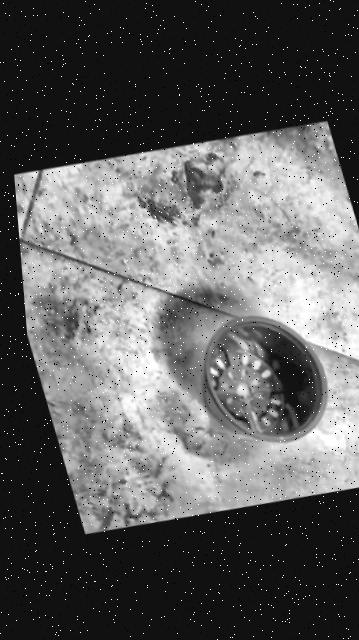pot: (178, 302, 340, 460)
